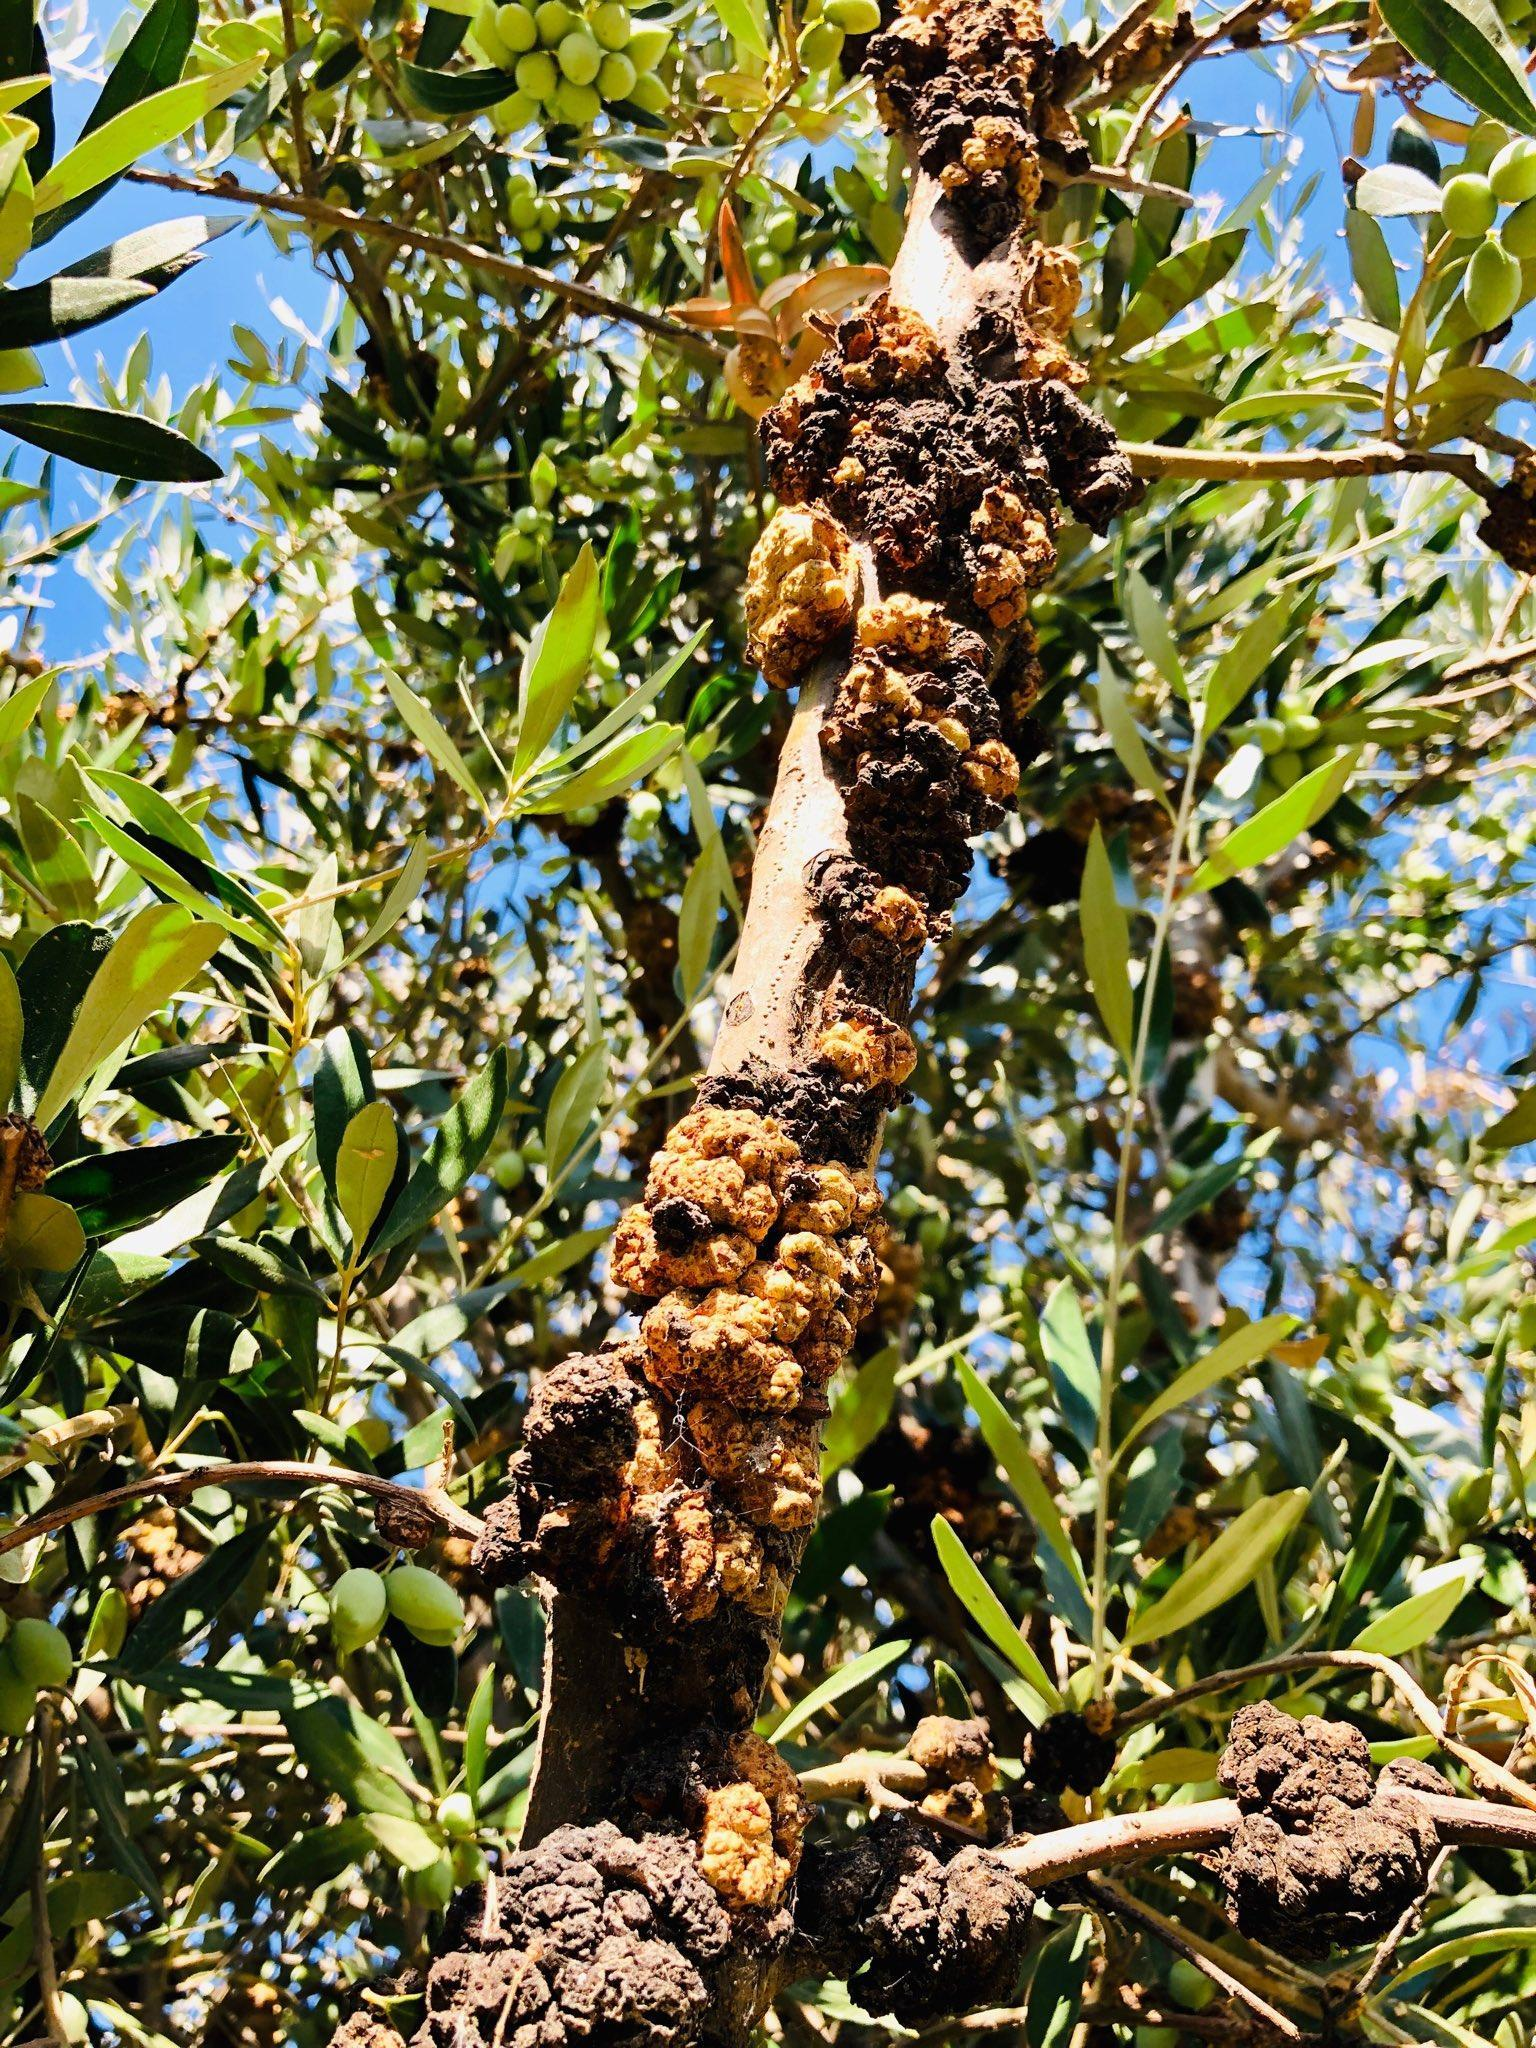Tuberculosis: (750, 289, 1086, 640), (1189, 1688, 1460, 1958), (416, 1829, 749, 2048), (808, 606, 1039, 913), (836, 3, 1105, 256), (850, 1834, 1066, 2016), (600, 1105, 803, 1293), (723, 492, 868, 705), (686, 1732, 818, 1925), (639, 1274, 810, 1421), (792, 835, 945, 993), (510, 1347, 639, 1514), (778, 984, 925, 1121), (965, 240, 1092, 397), (684, 1406, 828, 1532), (463, 1485, 576, 1588), (902, 1708, 1002, 1798), (774, 1159, 863, 1240), (365, 1485, 442, 1555), (918, 1779, 991, 1837)
